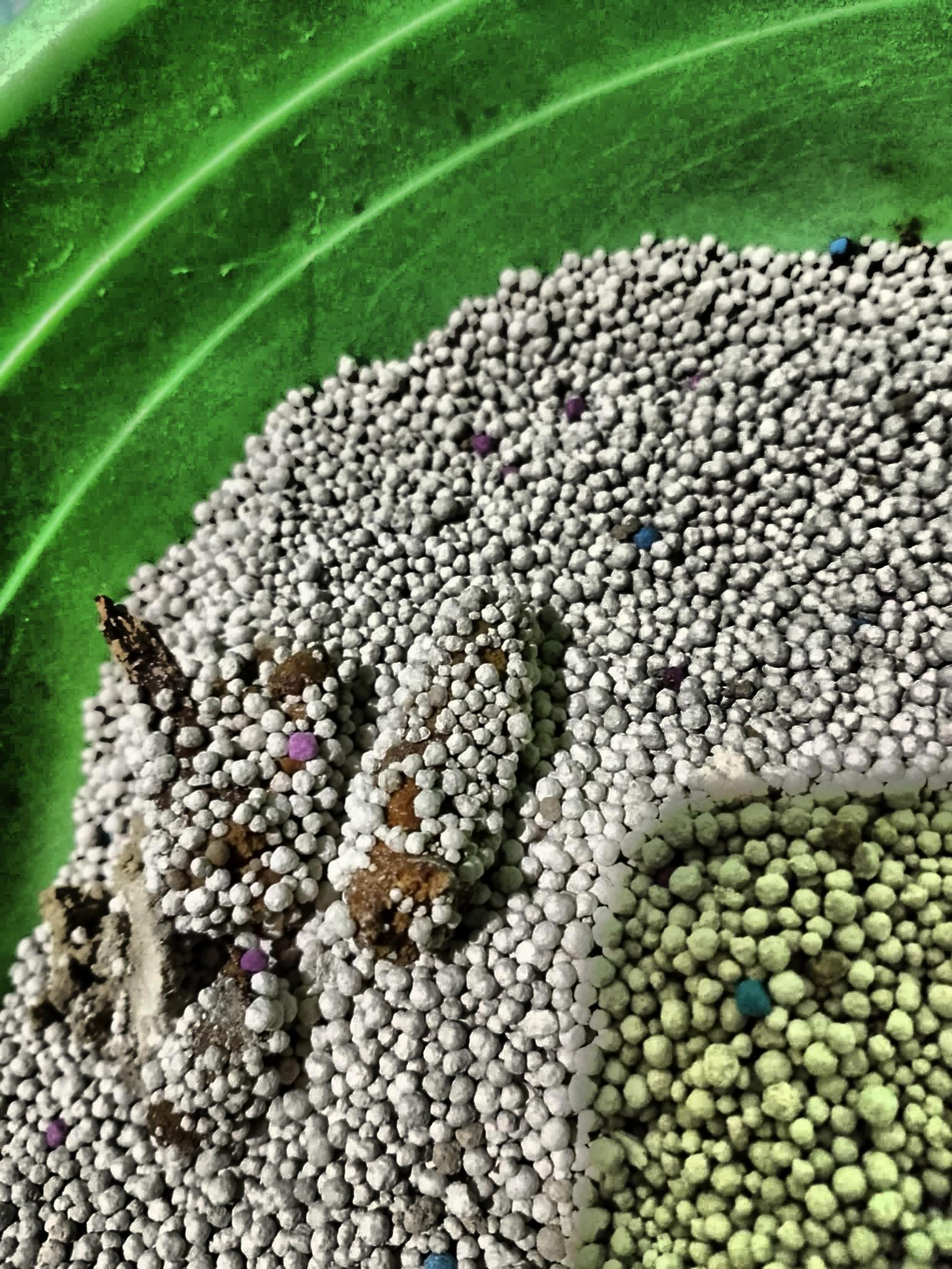poop: (36, 597, 350, 1153), (336, 587, 538, 965)
